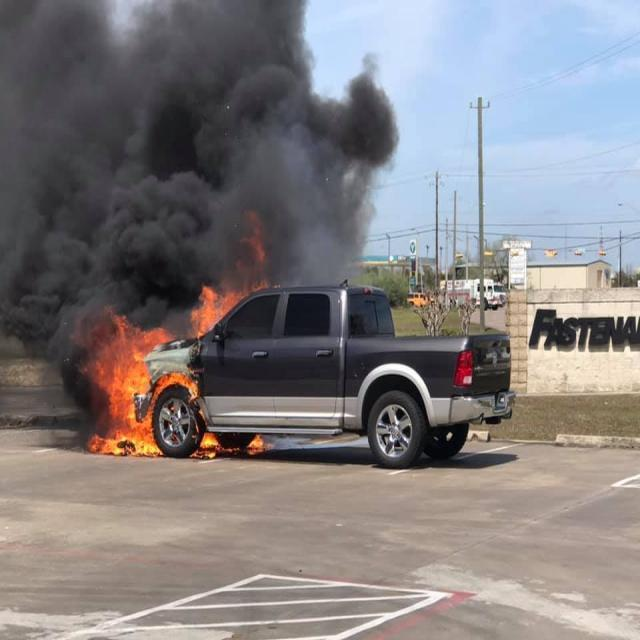Fire: (78, 308, 198, 463), (193, 219, 264, 333), (192, 428, 220, 461), (247, 432, 264, 452)
Smoke: (0, 0, 401, 420)
